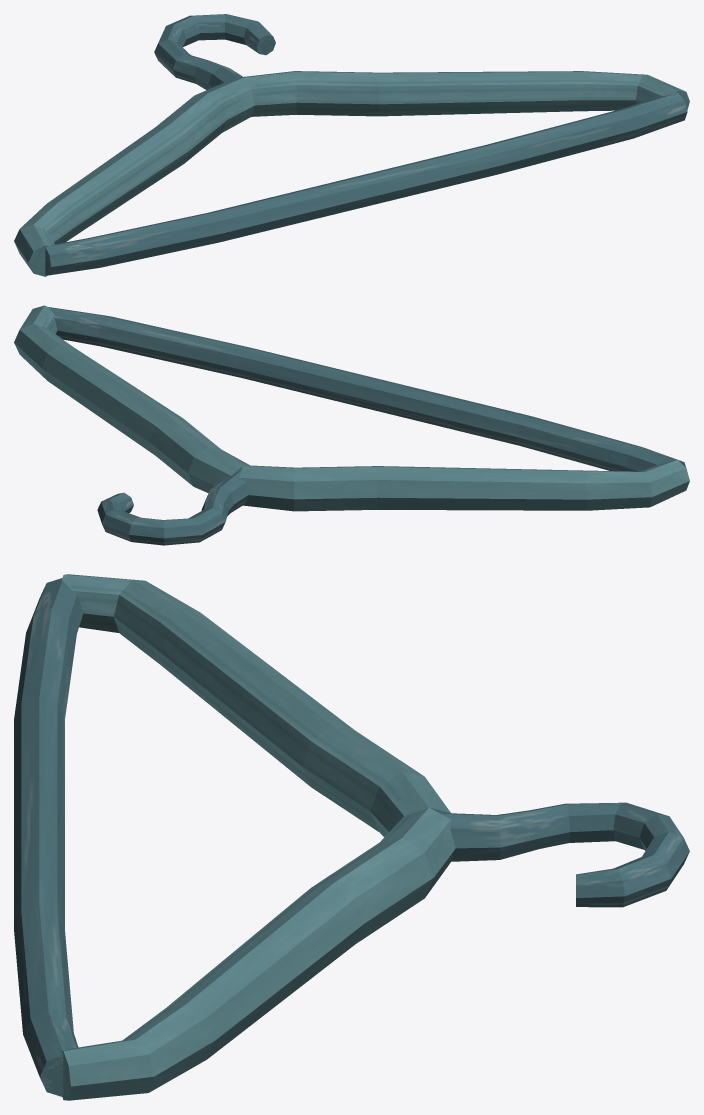
Rendered from moulded_clothes_hanger.glb.
3 views of the same model, one above another, from view 1: azimuth 30°, elevation 25°; view 2: azimuth 150°, elevation 25°; view 3: azimuth 270°, elevation 25° (orthographic). The views are drawn at different scales.
Visible parts, largest first — view 1: Moulded Clothes Hanger; view 2: Moulded Clothes Hanger; view 3: Moulded Clothes Hanger.
Part boxes in pixels (x1,y1,x2,y2): Moulded Clothes Hanger: (14,14,689,276); Moulded Clothes Hanger: (14,305,689,545); Moulded Clothes Hanger: (14,574,689,1100).
Size of the model in its own units: 0.3933 by 0.024 by 0.2255.
Materials: 1 (1 with a texture image).
